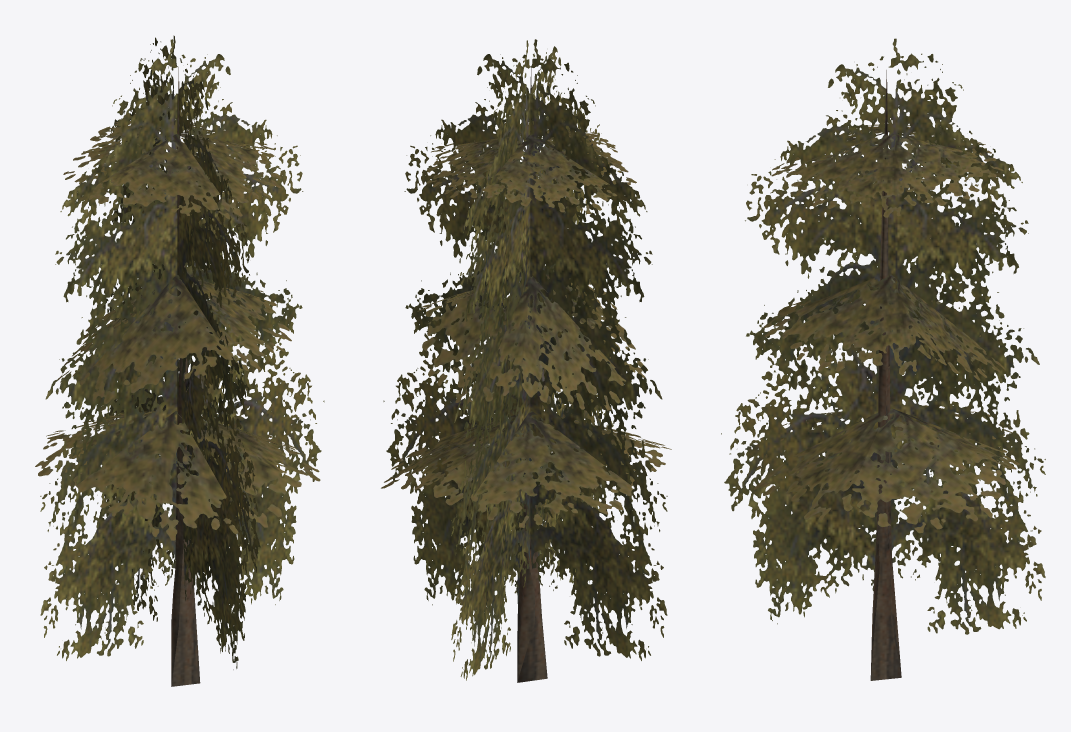
Rendered from listnac_k0.glb.
The picture shows the model from 3 angles, left to right: view 1: azimuth 30°, elevation 25°; view 2: azimuth 150°, elevation 25°; view 3: azimuth 270°, elevation 25°; orthographic projection.
Visible parts, largest first — view 1: Background_Tree_Atlas.004_Background_Tree_Atlas_0; view 2: Background_Tree_Atlas.004_Background_Tree_Atlas_0; view 3: Background_Tree_Atlas.004_Background_Tree_Atlas_0.
Part boxes in pixels (x1,y1,x2,y2): Background_Tree_Atlas.004_Background_Tree_Atlas_0: (35, 35, 324, 686); Background_Tree_Atlas.004_Background_Tree_Atlas_0: (381, 39, 671, 682); Background_Tree_Atlas.004_Background_Tree_Atlas_0: (721, 38, 1045, 680).
Size of the model in its own units: 7.64 by 16.44 by 7.64.
1 material, 1 textured.
